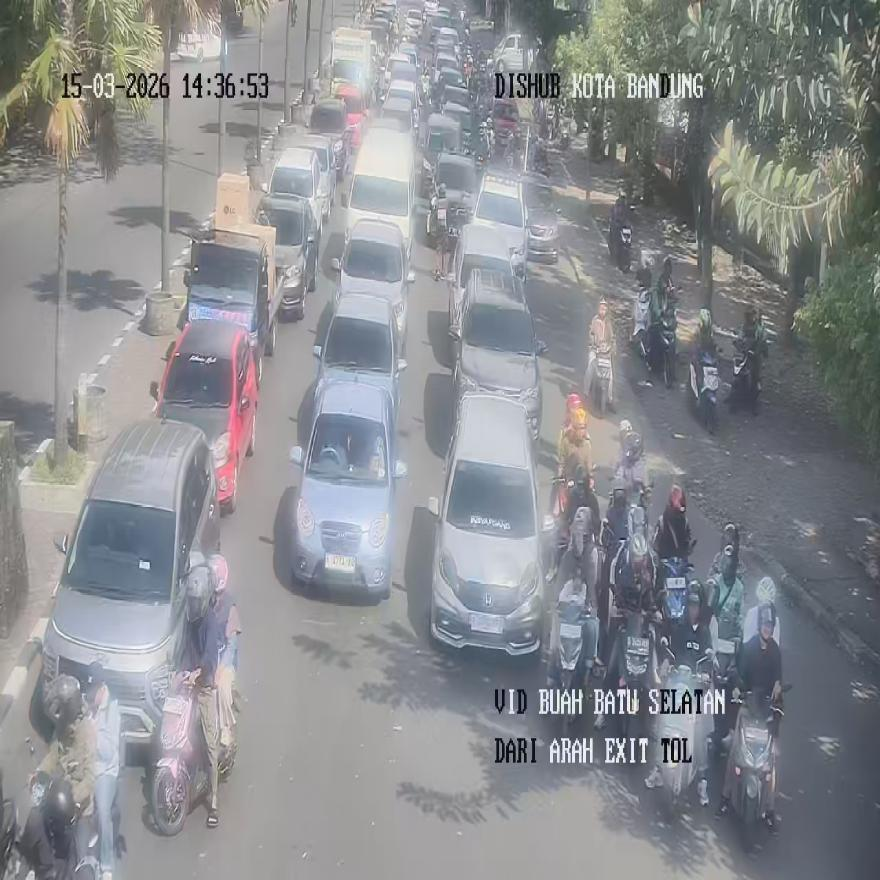Bis mini: (342, 130, 416, 260)
Mobil: (38, 416, 220, 755), (428, 392, 552, 658), (289, 373, 407, 598), (151, 320, 258, 511), (449, 270, 546, 446), (184, 214, 281, 389), (313, 293, 398, 409), (260, 198, 319, 317)
Motor: (658, 637, 714, 815), (150, 675, 209, 837), (731, 692, 783, 849), (548, 579, 598, 736), (30, 772, 99, 879), (612, 610, 651, 738), (710, 617, 741, 755), (614, 428, 652, 515), (546, 477, 574, 584), (599, 503, 648, 562), (689, 351, 719, 433), (662, 558, 693, 634), (731, 339, 761, 414), (649, 309, 677, 388), (584, 343, 612, 419), (0, 800, 21, 879), (632, 288, 651, 365), (609, 222, 632, 272), (600, 518, 623, 562), (628, 499, 649, 541), (617, 225, 632, 272), (532, 141, 549, 177), (544, 103, 557, 141), (504, 137, 516, 173), (475, 145, 488, 174), (559, 120, 570, 150), (464, 59, 472, 81), (463, 140, 473, 156), (460, 9, 465, 23), (466, 22, 470, 37)
